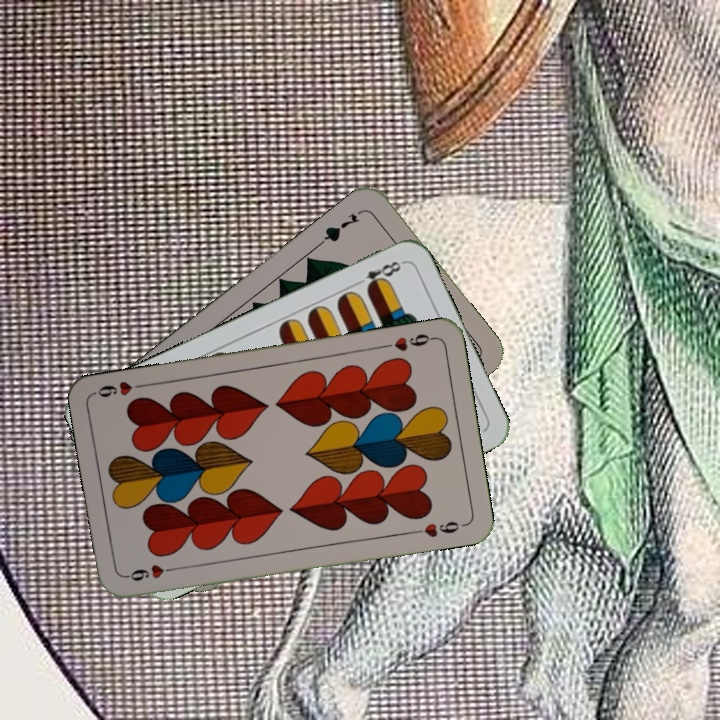E8: (350, 257, 406, 293)
G7: (316, 206, 366, 248)
H9: (378, 329, 437, 354), (122, 560, 181, 584)
